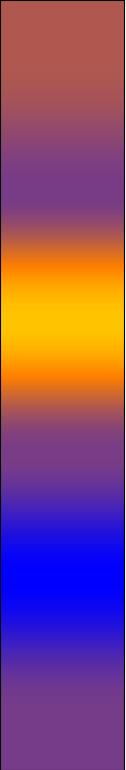Thermal Runaway: (15, 283, 111, 374)
critical: (9, 9, 119, 251), (14, 715, 111, 760)
safe: (10, 409, 118, 688)
